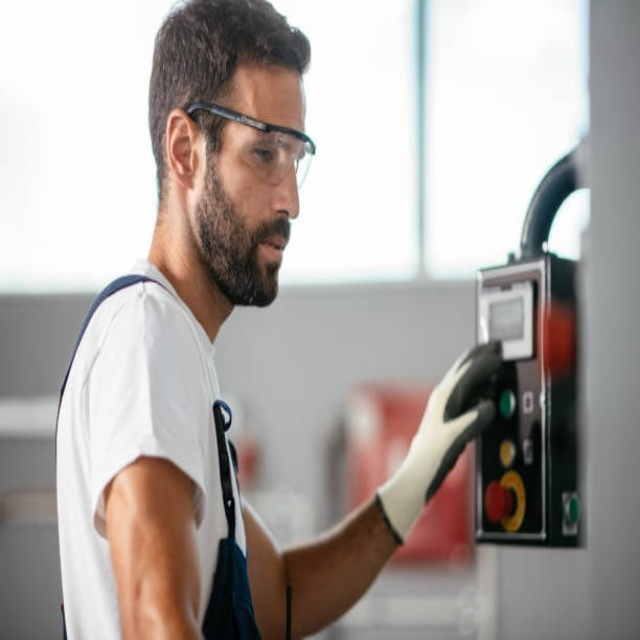Gafas: (184, 103, 317, 191)
Guantes: (375, 341, 506, 547)
Sin_mascara: (235, 220, 295, 292)
